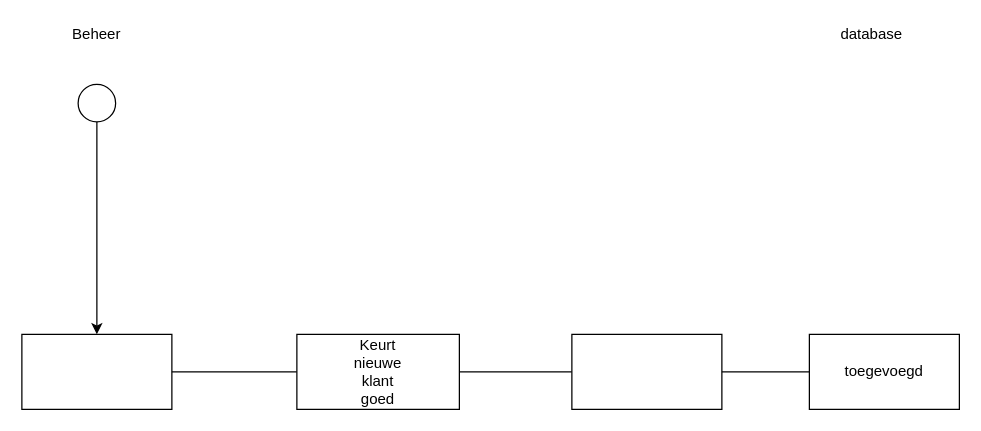
This 981x431 diagram has some shape labels left out. The shapes that lost their labels are listed below. From the top down, each one's centre as x and y in pixels, then its label:
At point (96, 371): "Controleert gegevens klant".
At point (646, 371): "voegt klant toe".
